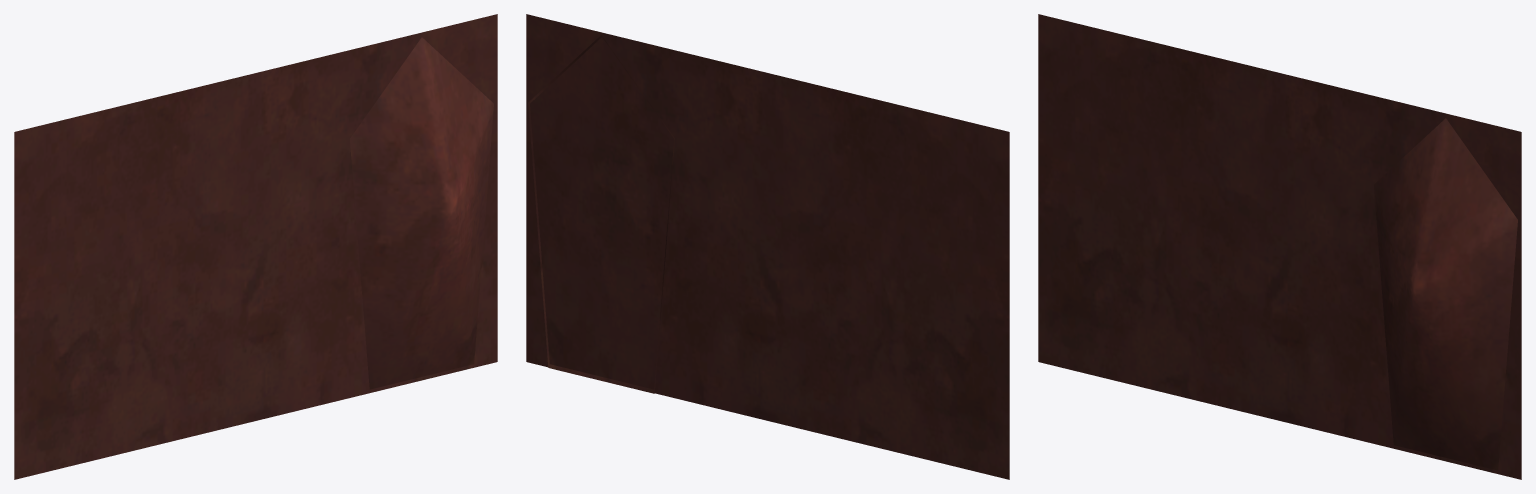
Rendered from lava_half_straight_01.fbx.
3 renders of one model, left to right at view 1: azimuth 30°, elevation 25°; view 2: azimuth 150°, elevation 25°; view 3: azimuth 330°, elevation 25°, orthographic.
Visible parts, largest first — view 1: lava_half_straight_01-0; view 2: lava_half_straight_01-0; view 3: lava_half_straight_01-0.
Boxes of the visible parts, box(x1,y1,x2,y2) form: lava_half_straight_01-0: box(14, 14, 497, 479); lava_half_straight_01-0: box(526, 14, 1009, 479); lava_half_straight_01-0: box(1038, 14, 1521, 479).
Bounding box in the file's own units: 4 × 2.75 × 0.4583.
